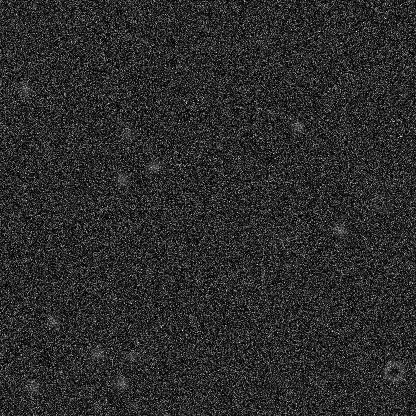Ring: (381, 359, 405, 383), (370, 191, 394, 215)
Spot: (332, 222, 348, 238), (272, 232, 288, 248), (90, 345, 106, 361), (119, 124, 135, 140), (113, 171, 129, 187), (124, 349, 140, 365), (25, 380, 41, 396), (378, 42, 394, 58), (145, 158, 161, 174), (17, 80, 33, 96), (112, 374, 128, 390), (95, 82, 111, 98), (140, 262, 156, 278), (289, 118, 305, 134), (45, 312, 61, 328), (254, 31, 270, 47)
